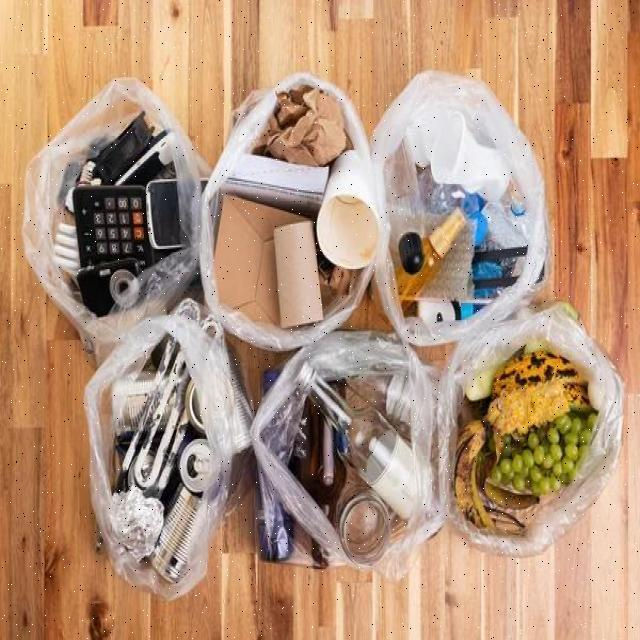E-Waste: (72, 114, 172, 316), (79, 111, 181, 250), (55, 223, 81, 278), (55, 223, 80, 278), (76, 159, 95, 184)
Garbage: (206, 74, 385, 344), (27, 77, 205, 337), (379, 74, 544, 345), (264, 345, 445, 569), (446, 315, 614, 547), (90, 328, 234, 587)
Glass_bottle: (251, 332, 442, 579), (261, 333, 420, 567), (310, 377, 415, 520), (259, 469, 340, 566), (339, 491, 390, 564)
Metal: (111, 335, 211, 570), (176, 303, 224, 345), (231, 362, 252, 454)
Plastic: (372, 72, 549, 346)
contaminated_waste: (85, 74, 444, 598), (372, 72, 548, 340), (302, 361, 427, 562), (108, 343, 211, 584), (55, 126, 181, 315), (390, 139, 428, 272), (413, 297, 490, 333)
